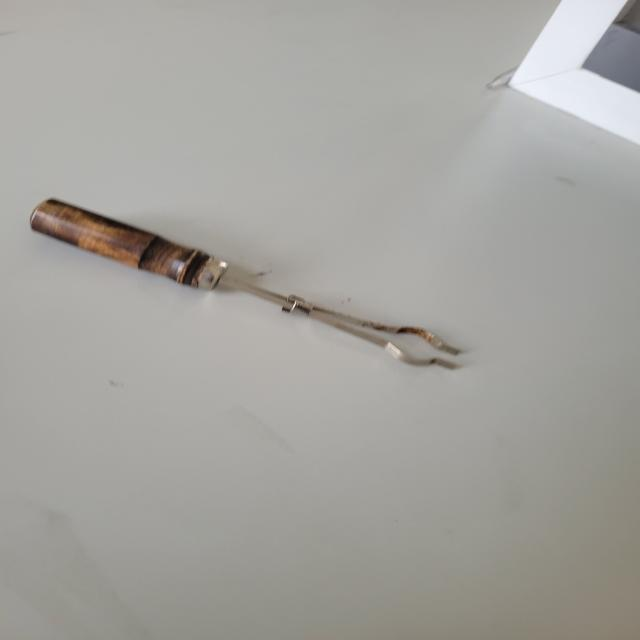TestTube_Holder: (13, 156, 475, 398)
